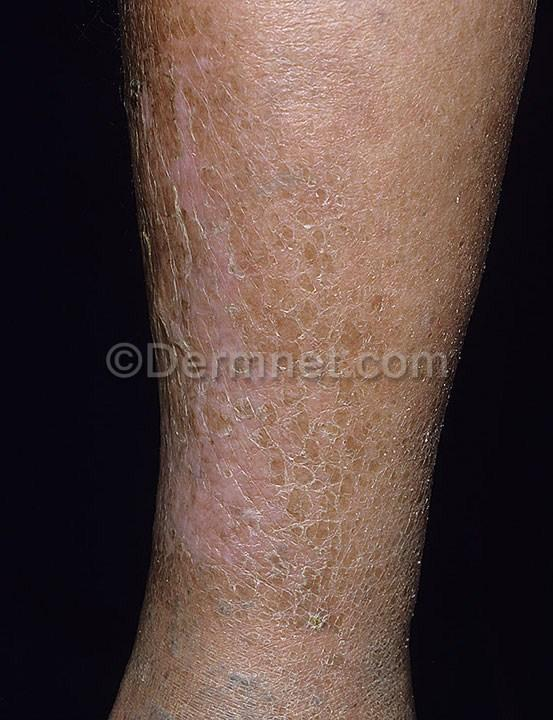Eczema: (251, 186, 334, 303), (343, 465, 432, 571), (140, 629, 241, 715), (250, 549, 334, 648), (337, 202, 425, 290), (170, 319, 240, 429), (250, 364, 328, 461), (256, 621, 338, 713), (214, 436, 285, 536), (121, 140, 187, 244), (326, 373, 398, 466), (346, 558, 400, 680), (250, 291, 330, 369), (145, 535, 242, 599), (136, 68, 222, 135), (334, 304, 400, 383), (182, 236, 246, 314), (277, 464, 337, 544), (365, 296, 443, 356), (195, 152, 254, 230), (401, 361, 443, 459), (132, 255, 187, 324), (411, 238, 472, 298), (153, 603, 248, 641), (152, 6, 222, 55), (162, 458, 202, 542), (358, 689, 421, 720), (117, 14, 148, 69)
